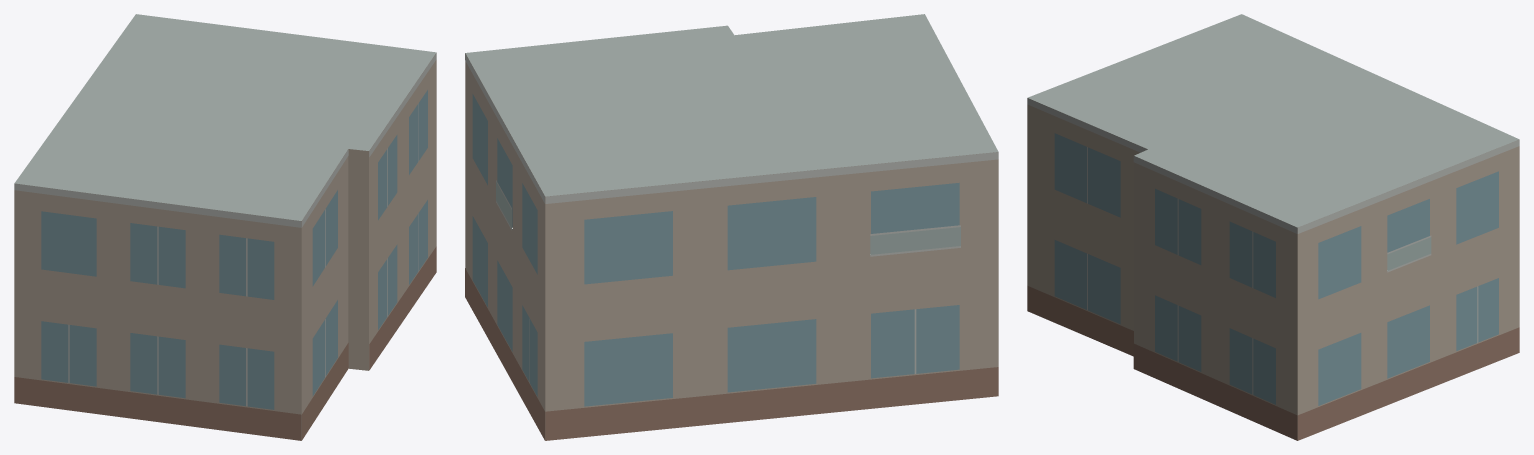
File: survey-upis-32838841.glb
3 views of the same model, side by side, from view 1: azimuth 30°, elevation 25°; view 2: azimuth 150°, elevation 25°; view 3: azimuth 270°, elevation 25° (orthographic). The views are drawn at different scales.
Visible parts, largest first — view 1: survey-upis-32838841.tmp; view 2: survey-upis-32838841.tmp; view 3: survey-upis-32838841.tmp.
Boxes of the visible parts, x1=… form: survey-upis-32838841.tmp: x1=14, y1=14, x2=436, y2=440; survey-upis-32838841.tmp: x1=465, y1=14, x2=998, y2=440; survey-upis-32838841.tmp: x1=1027, y1=14, x2=1519, y2=440.
Size of the model in its own units: 16.98 by 7.9 by 16.54.
